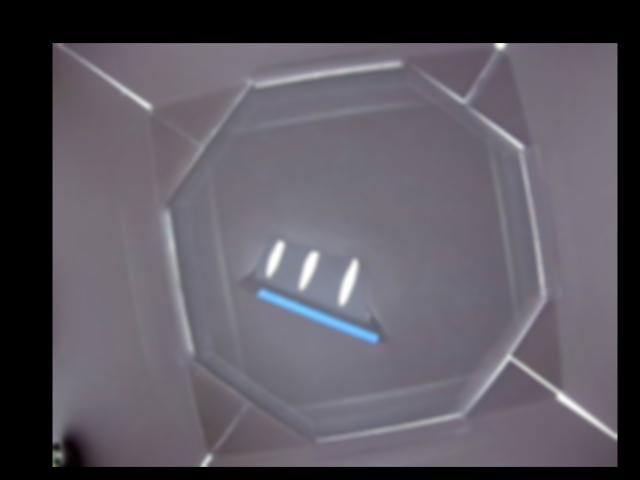China: (240, 237, 387, 345)
